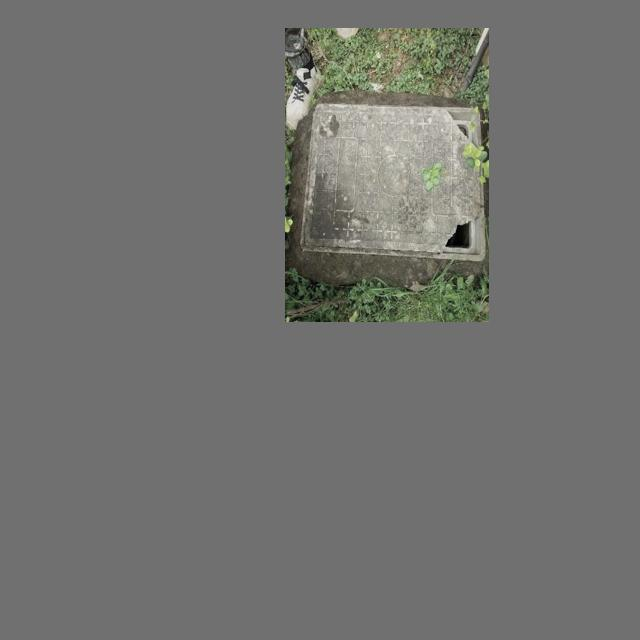broke: (304, 108, 482, 250)
